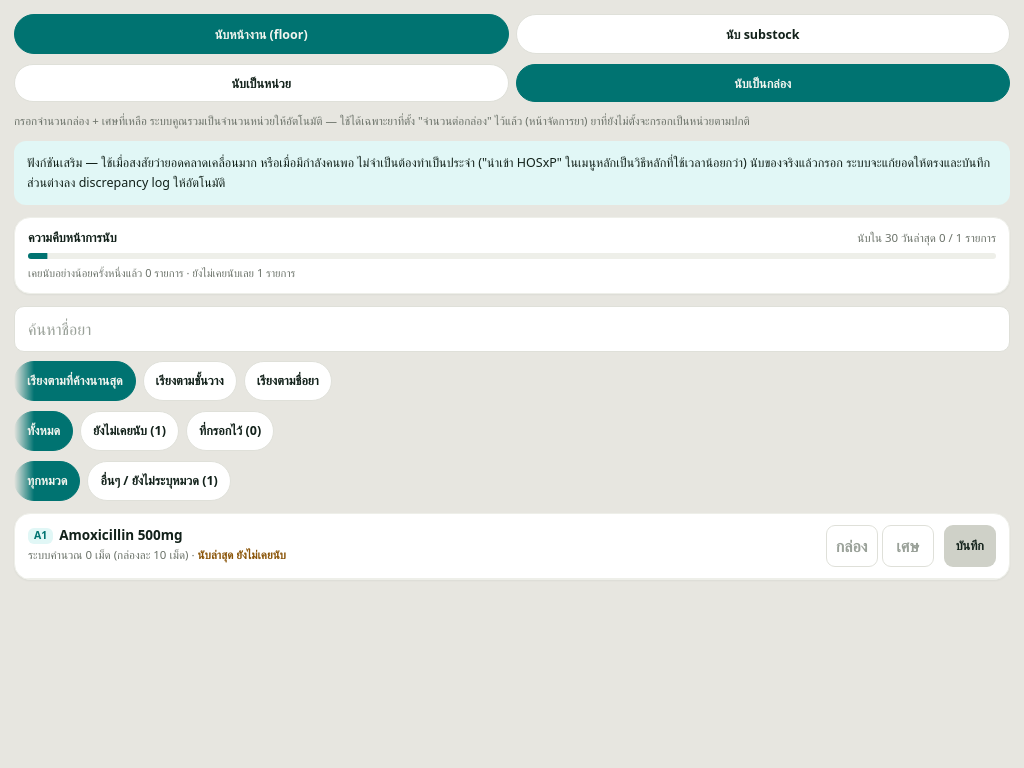
Test case: CountScreen — box-counting regression › re-derives a self-consistent กล่อง+เศษ breakdown when packSize changes mid-count on another device
Expected: the text "Amoxicillin 500mg" is shown, left=59, top=527, right=183, bottom=544
Step 1. Click the button "นับเป็นกล่อง" → (763, 83), box left=516, top=64, right=1010, bottom=102
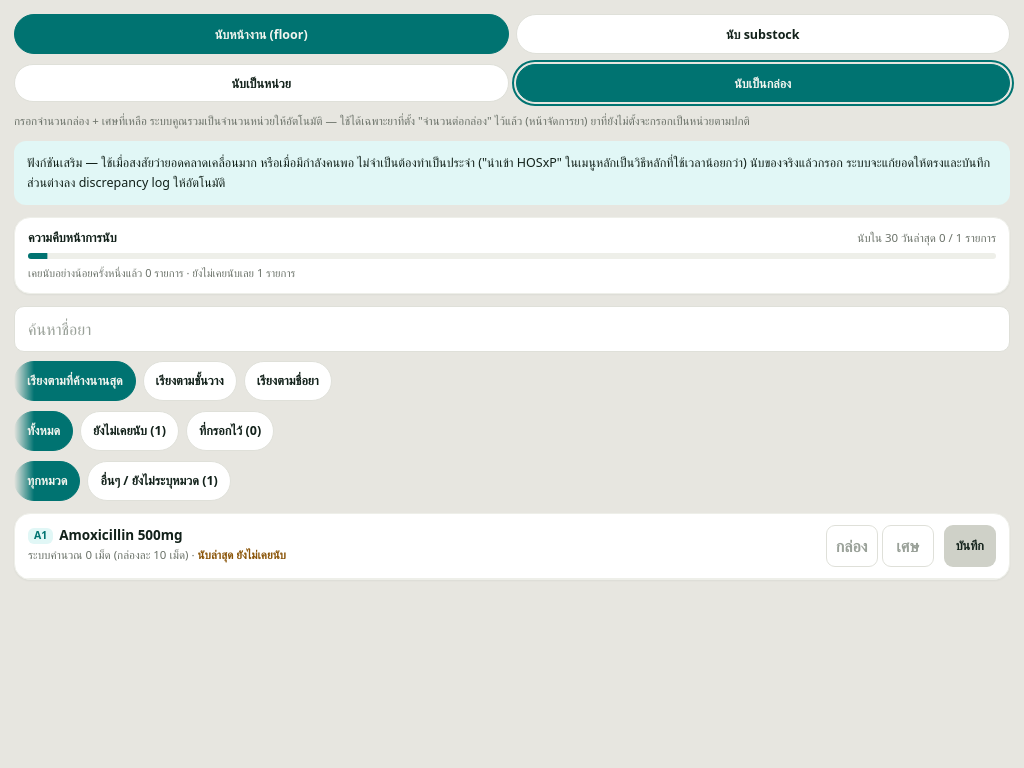
Step 2. Type "3" into the field with placeholder "กล่อง" → (852, 546), box left=826, top=525, right=878, bottom=567
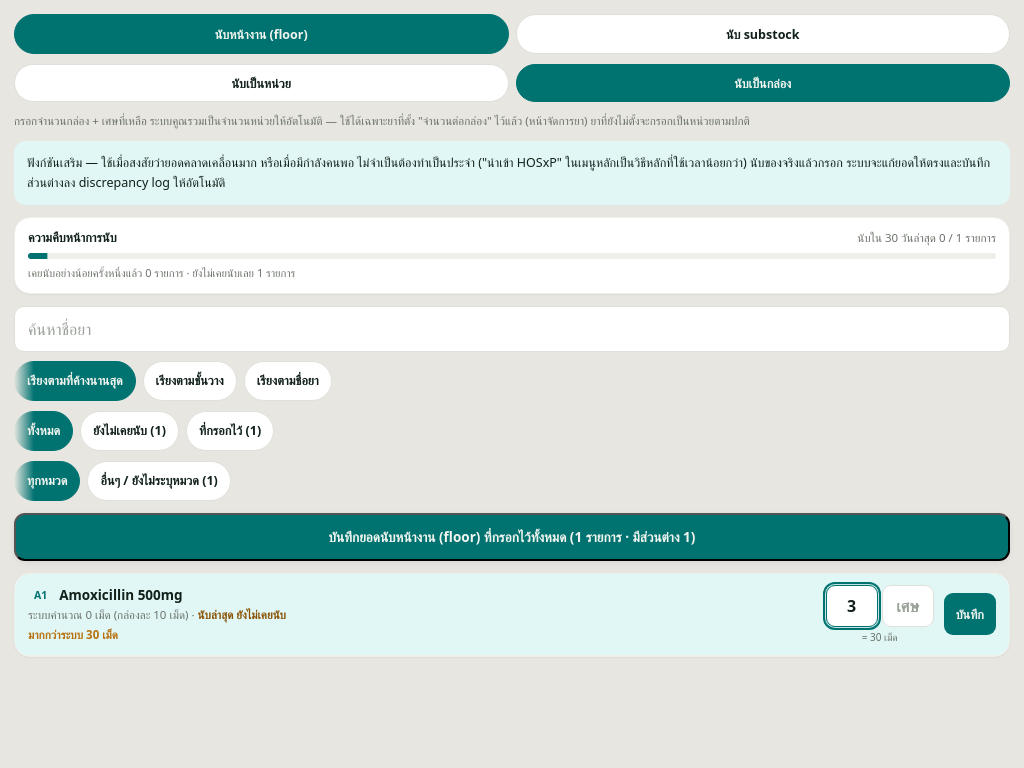
Step 3. Type "5" into the field with placeholder "เศษ" → (908, 606), box left=882, top=585, right=934, bottom=627
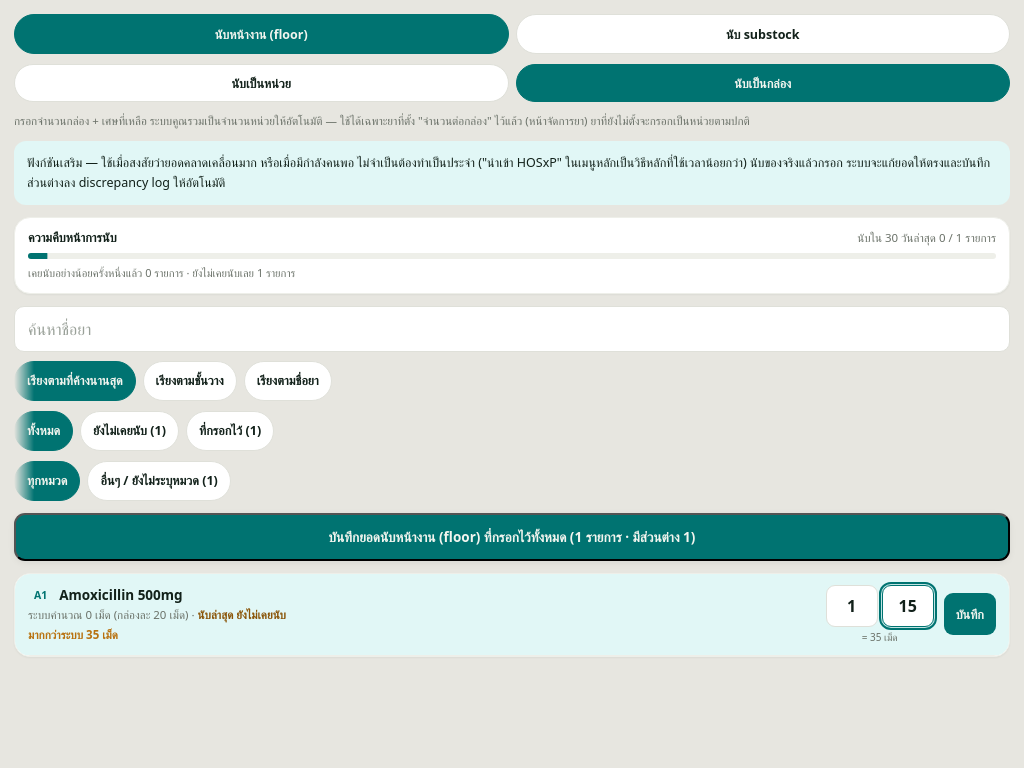
Now the text "= 35 เม็ด" is shown, box left=862, top=630, right=898, bottom=644
